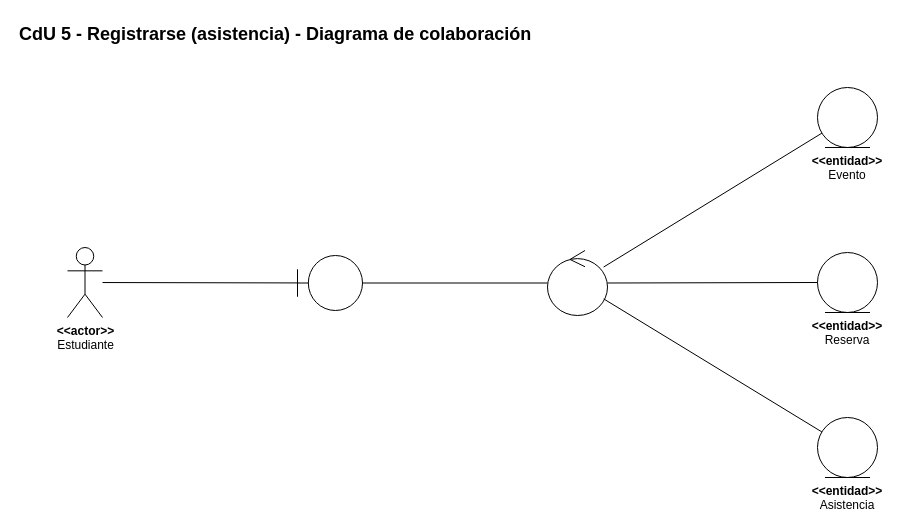
The diagram is 900 pixels wide and 530 high, and some of its shapes have lost their labels. The shapes that lost their labels are listed below. From the top down, each one's centre as x and y in pixels, then its label:
At pixel 329 282: "<<límite>> PantallaEventos".
At pixel 577 283: "<<control>> GestiónAsistencia".
